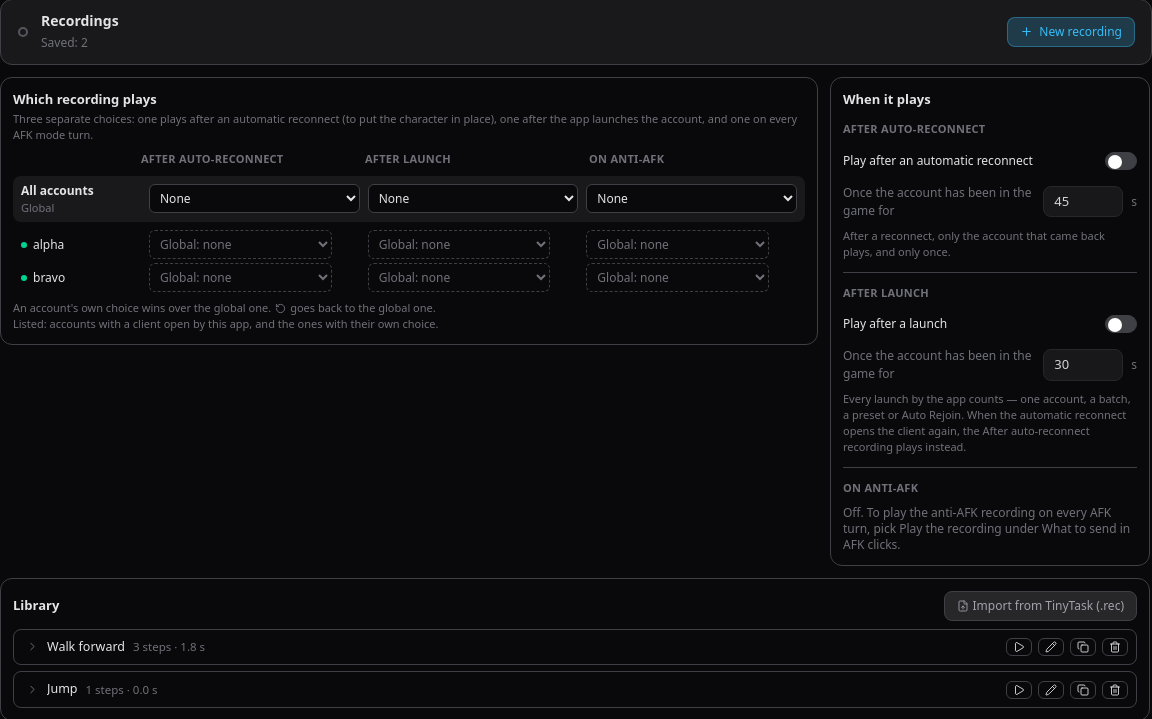
Test: RecordingsTab — biblioteca e editor › sem nome não salva, e diz por quê
Click the button "Walk forward 3 steps · 1.8 s".
click(86, 646)  # box [22,636,1000,658]
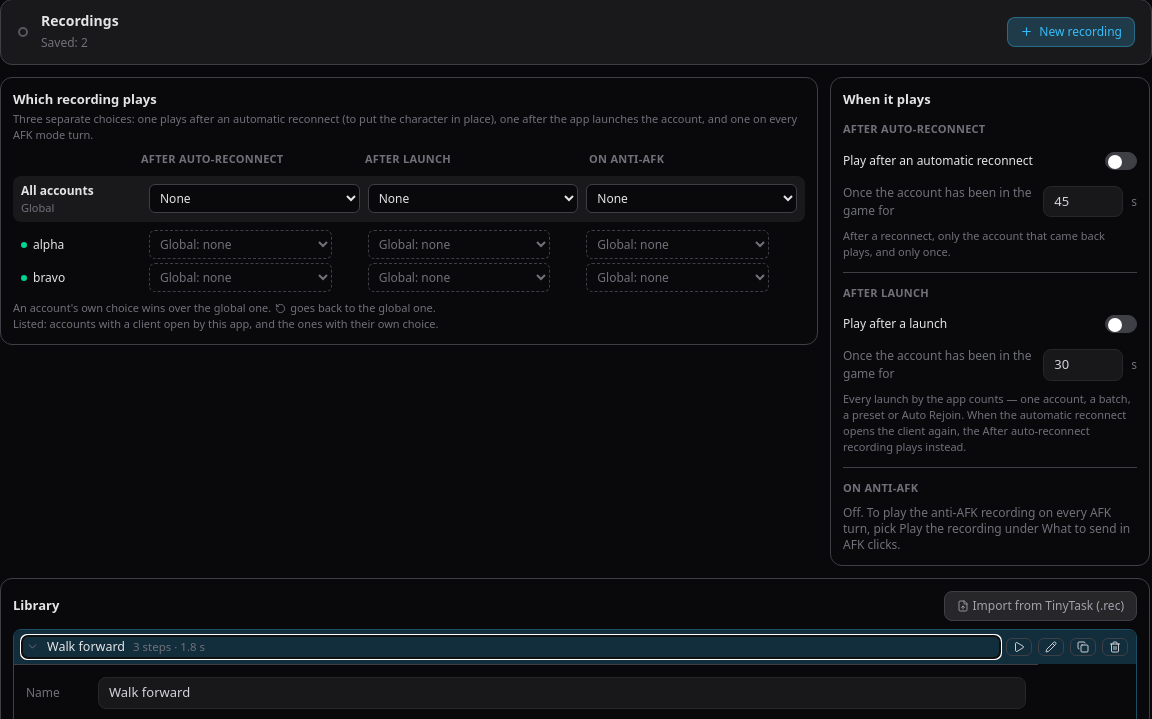
Clear the field named "Recording name" at (562, 693), box [98,677,1026,709]
(page scrolled)
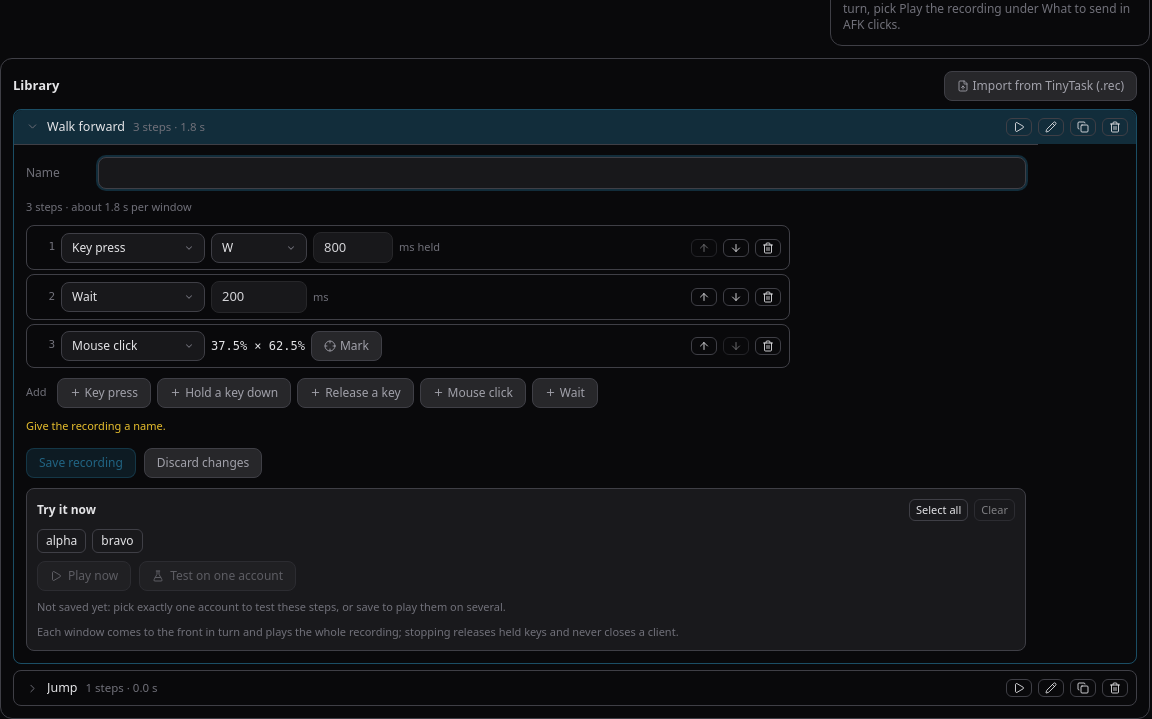
Expected: the button "Save recording" is disabled, [26,448,136,478]
Expected: the text "Give the recording a name." is shown, [26,418,166,433]
